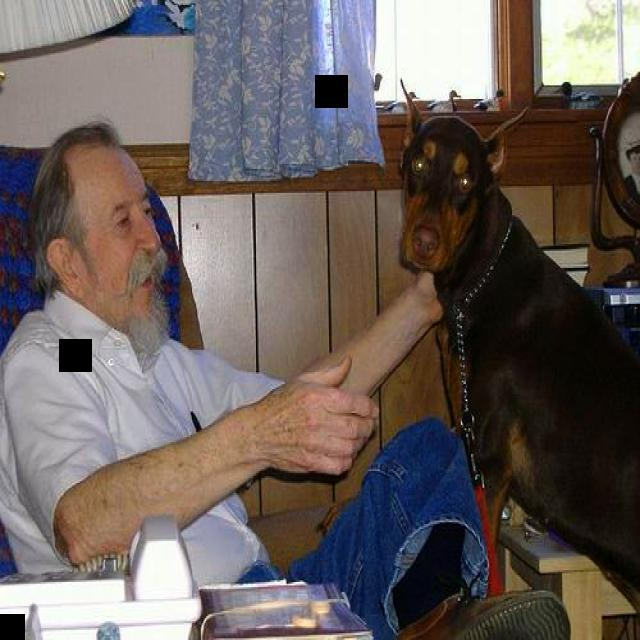adult_dog: (385, 78, 640, 612)
non-dog: (3, 126, 492, 631)
